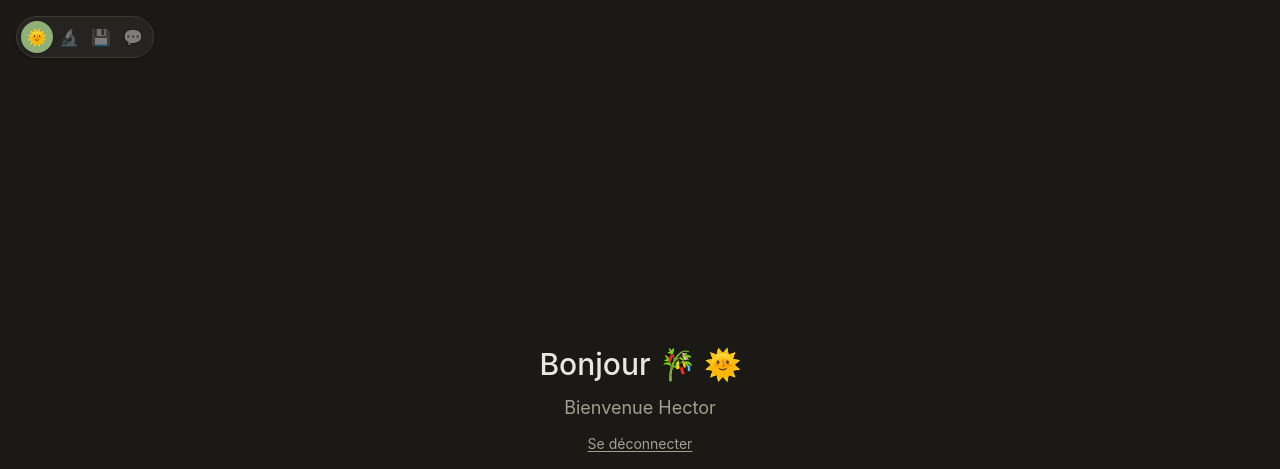
Test: LabApp — signed in › switches to the database tab
The image size is (1280, 469).
Expected: the element named "Lab sections" is shown, 16,16 -> 154,58
Click the tab named "Database viewer" at (101, 37), box 85,21 -> 117,53
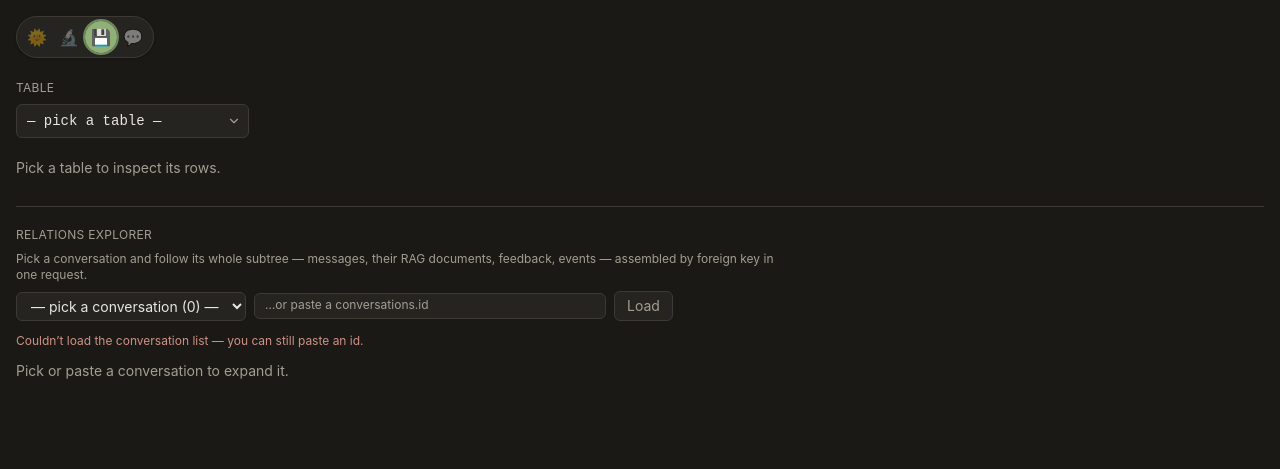
Result: the text "Bienvenue Hector" is gone
